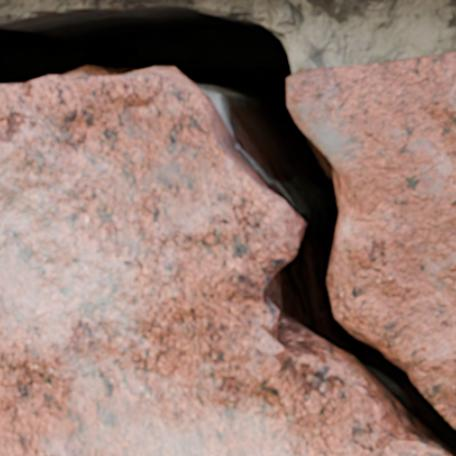broken_brick: (0, 68, 436, 455), (289, 52, 455, 426)
crack: (0, 1, 455, 455)
